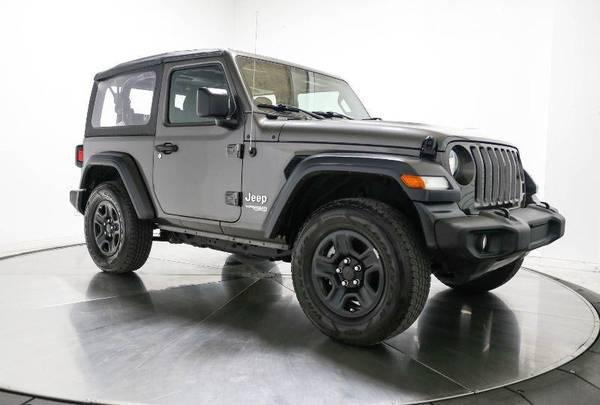Front_Bumper: (413, 196, 565, 256)
Front_Fender: (241, 141, 459, 239)
Front_Right_Door: (154, 131, 246, 243)
Front_Right_Window: (160, 65, 243, 129)
Front_Windshield: (232, 54, 370, 119)
Grille: (445, 140, 526, 211)
Hood: (246, 117, 521, 148)
Rear_Fender: (81, 69, 166, 228)
Roof: (85, 50, 258, 136)
Wheel: (292, 195, 431, 346), (83, 184, 157, 274)
